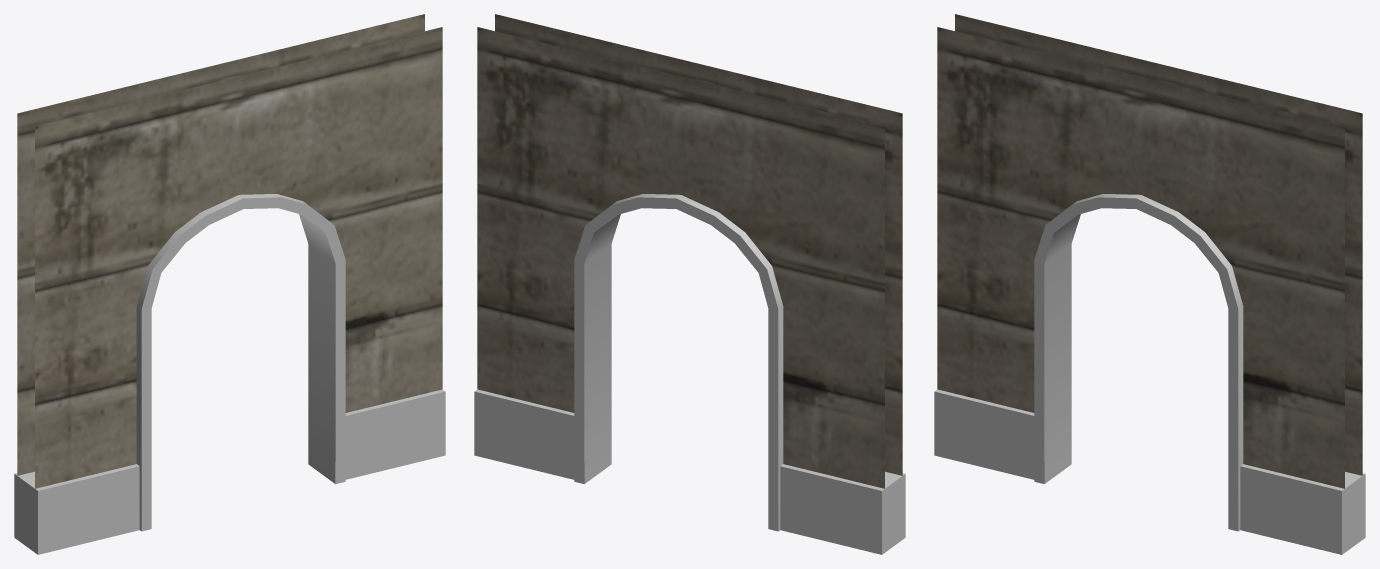
Rendered from MO_WALL_S_DOOR_09.fbx.
3 renders of one model, left to right at view 1: azimuth 30°, elevation 25°; view 2: azimuth 150°, elevation 25°; view 3: azimuth 330°, elevation 25°, orthographic.
Visible parts, largest first — view 1: MO_WALL_S_DOOR_09; view 2: MO_WALL_S_DOOR_09; view 3: MO_WALL_S_DOOR_09.
Part boxes in pixels (x1,y1,x2,y2): MO_WALL_S_DOOR_09: (14,14,445,554); MO_WALL_S_DOOR_09: (474,14,905,554); MO_WALL_S_DOOR_09: (934,14,1365,554).
Bounding box in the file's own units: 4 × 4 × 0.464.
